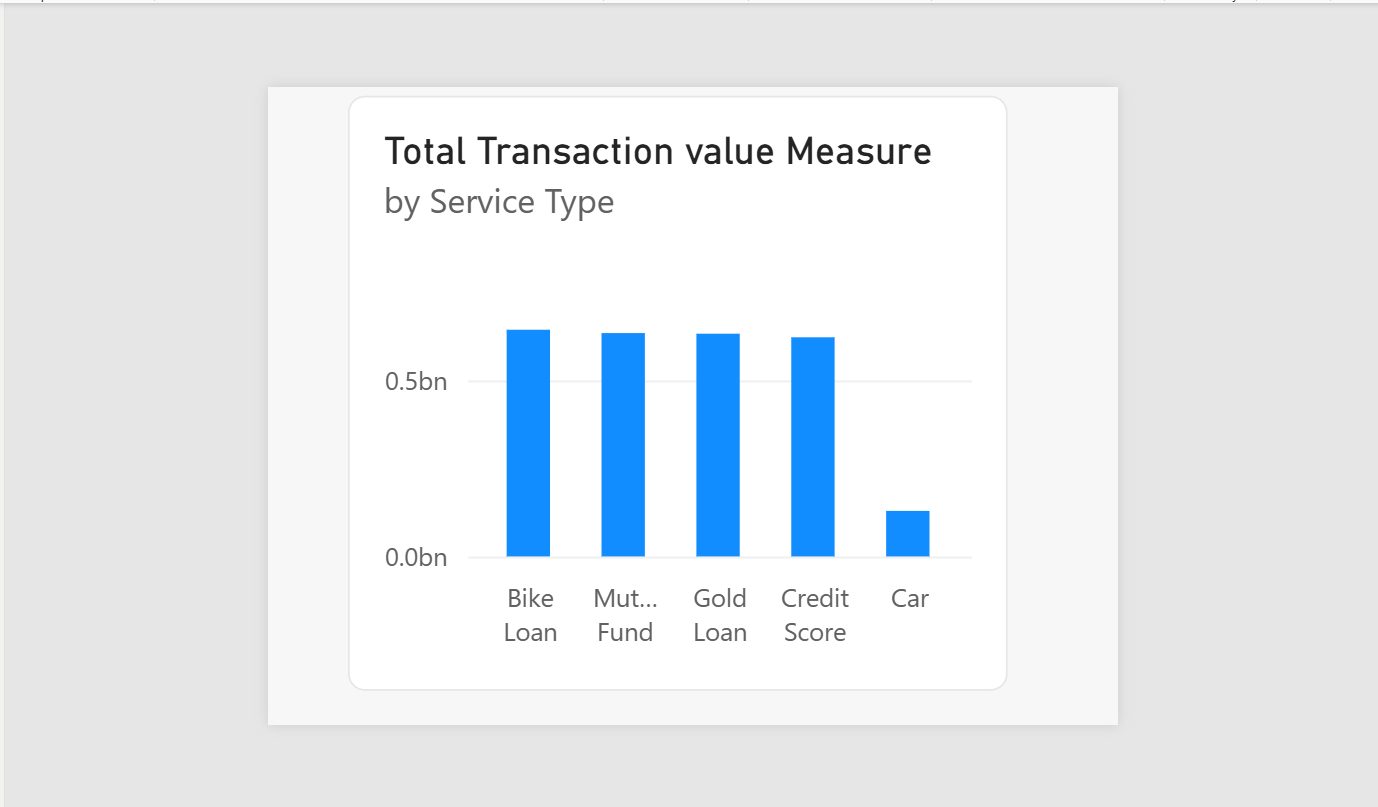

Layout of this report page (visuals, bound fields, positions):
{"tool":"powerbi","page":{"name":"tooltip1","canvas":[400,300],"ordinal":1},"visuals":[{"type":"columnChart","fields":{"Category":["All_Transactions.Service Type"],"Y":["Measures (2).Total Transaction value Measure"]},"box":[37.5,4.4,310.6,280],"z":0}]}

Visuals, with their boxes on the page's 400x300 design canvas (x1, y1, x2, y2). These are canvas units, not pixel positions in the 1378x807 screenshot, which may show the page scaled, cropped or inside an application window:
columnChart - All_Transactions.Service Type x Measures (2).Total Transaction value Measure: x1=38 y1=4 x2=348 y2=284
